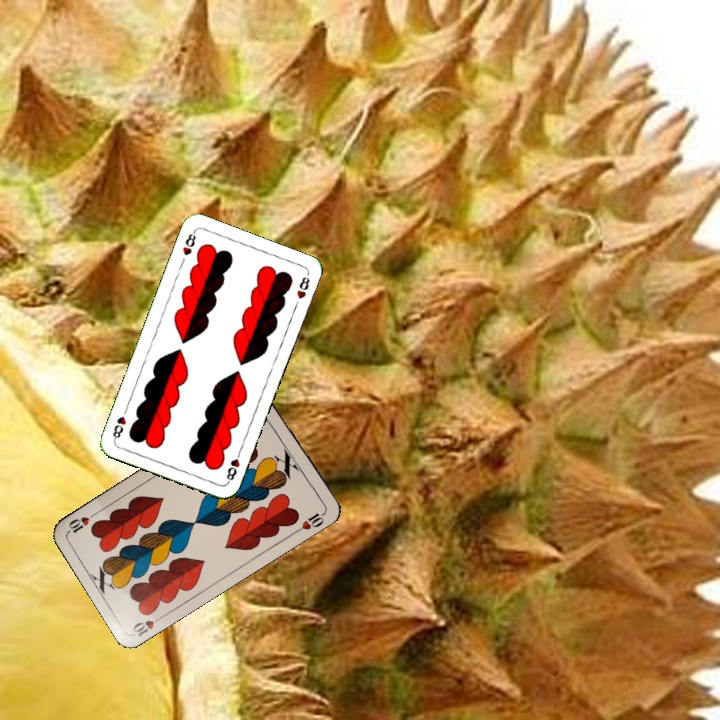H10: (129, 611, 167, 639)
H8: (222, 446, 244, 486), (178, 227, 199, 258)
